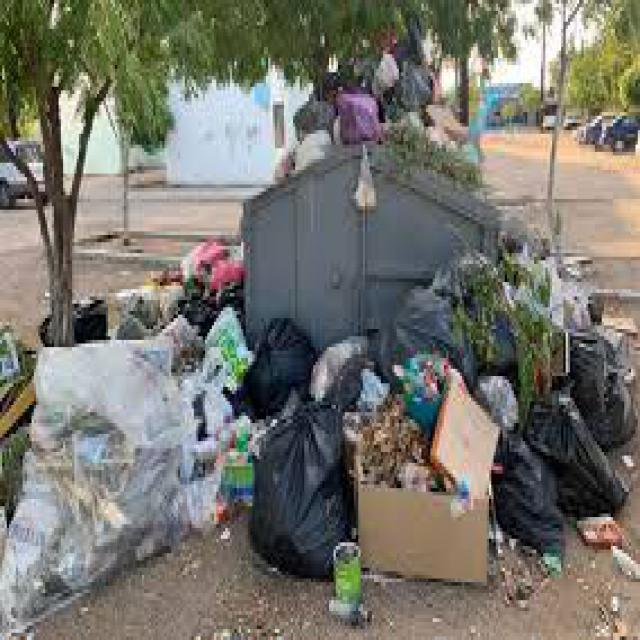Trashbag: (262, 416, 350, 582), (528, 391, 632, 519), (485, 434, 552, 558), (248, 319, 312, 416), (564, 338, 623, 418)
